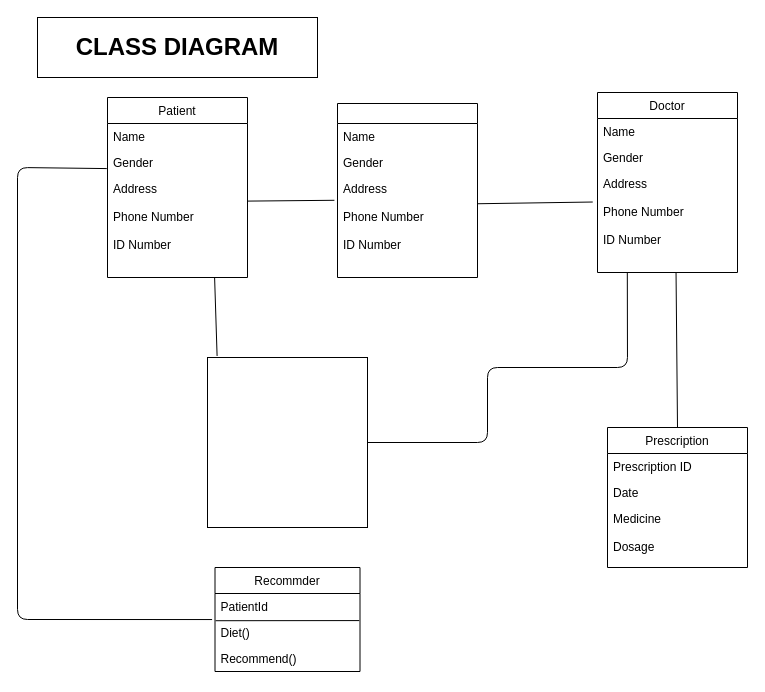
Image size: 765x692. Some labels were removed from this diagram. The shapes that lost their labels are listed below. From the top down, each one's box as (x1, y1, x2, y2) in pixels, then its label:
(336, 102, 478, 278): Receptionist
(206, 356, 368, 528): Notifier System PatientId DoctorId FollowUp() MedicineTIme() DailyActivity()
